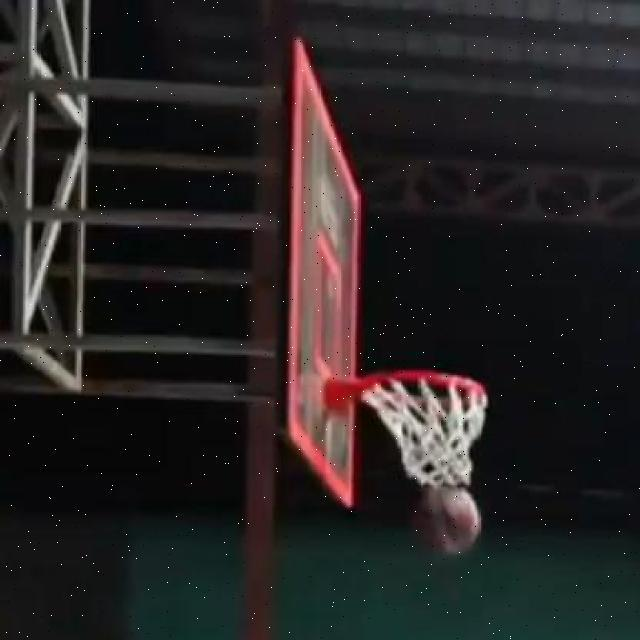ball: (406, 485, 486, 562)
hoop: (349, 367, 492, 406)
